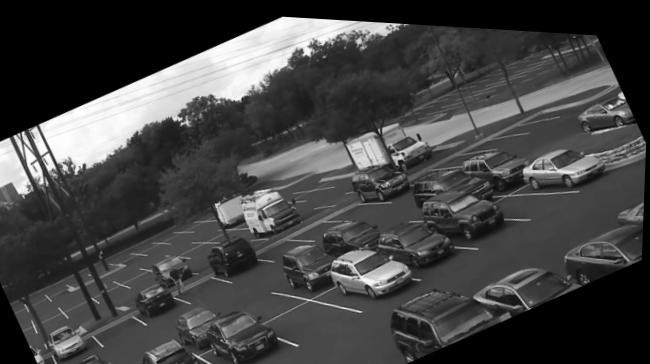empty: (269, 292, 365, 338), (497, 184, 578, 215), (94, 310, 152, 348), (237, 284, 292, 312), (492, 107, 555, 131), (123, 333, 165, 364), (292, 212, 343, 237), (180, 274, 230, 299), (262, 230, 304, 253), (333, 197, 389, 214), (63, 298, 104, 318), (470, 129, 524, 144), (95, 282, 136, 301), (37, 312, 71, 334), (84, 276, 121, 296), (434, 146, 478, 162), (35, 302, 66, 324), (384, 200, 424, 216), (25, 291, 57, 311), (286, 183, 331, 197), (184, 239, 221, 256), (112, 262, 146, 280), (60, 290, 92, 308), (137, 250, 170, 266), (124, 268, 155, 285), (46, 282, 75, 300), (168, 235, 200, 251), (193, 223, 226, 237), (192, 248, 215, 268), (110, 249, 145, 262), (211, 225, 248, 237), (139, 239, 171, 250), (123, 287, 143, 304), (184, 217, 214, 228), (163, 228, 191, 239), (25, 324, 42, 341), (14, 301, 30, 317), (21, 314, 36, 328)
occupied: (393, 282, 511, 357), (472, 260, 584, 308), (331, 243, 417, 300), (424, 183, 506, 236), (568, 217, 645, 271), (211, 305, 286, 360), (380, 215, 462, 263), (524, 141, 608, 182), (243, 187, 304, 232), (353, 154, 413, 199), (209, 233, 266, 279), (317, 214, 383, 253), (465, 144, 528, 184), (283, 241, 336, 287), (415, 162, 484, 197), (579, 87, 637, 125), (179, 303, 220, 348), (143, 336, 207, 364), (136, 281, 180, 316), (154, 254, 195, 286), (52, 325, 90, 359), (33, 345, 49, 364), (82, 354, 108, 364)
